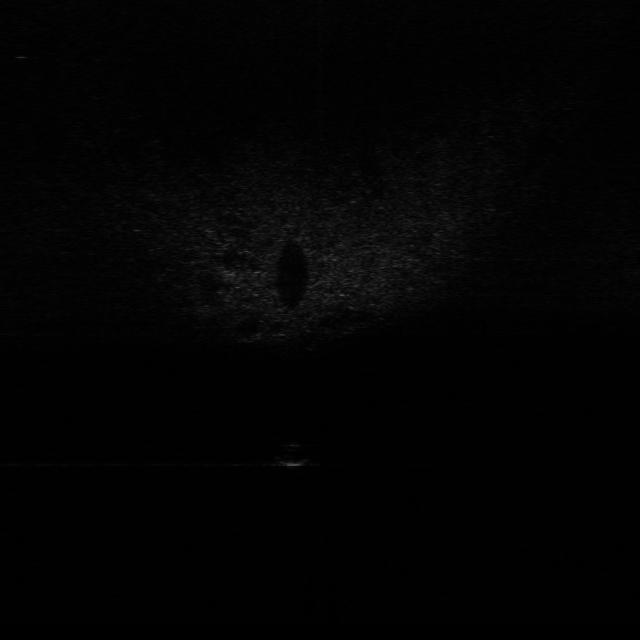ball: (267, 438, 317, 470)
